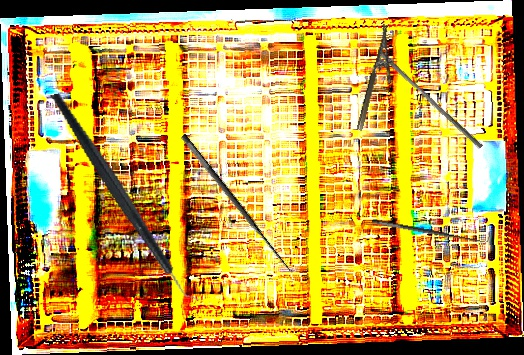Chopper: (47, 71, 208, 323)
Hook Surgical: (178, 125, 305, 277), (371, 209, 492, 248)
Needle Holder: (355, 24, 405, 135)
Pusher: (374, 49, 487, 150)
